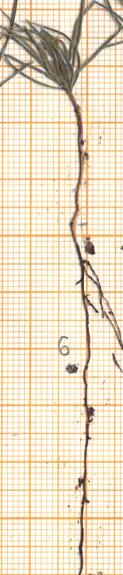flower: (0, 0, 123, 104)
root: (55, 223, 123, 575)
stem: (61, 94, 92, 227)
